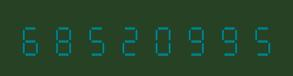eight: (49, 20, 80, 56)
five: (81, 20, 112, 56), (241, 20, 272, 56)
nine: (177, 20, 208, 56), (209, 20, 240, 56)
six: (17, 20, 48, 56)
two: (113, 20, 144, 56)
zero: (145, 20, 176, 56)
